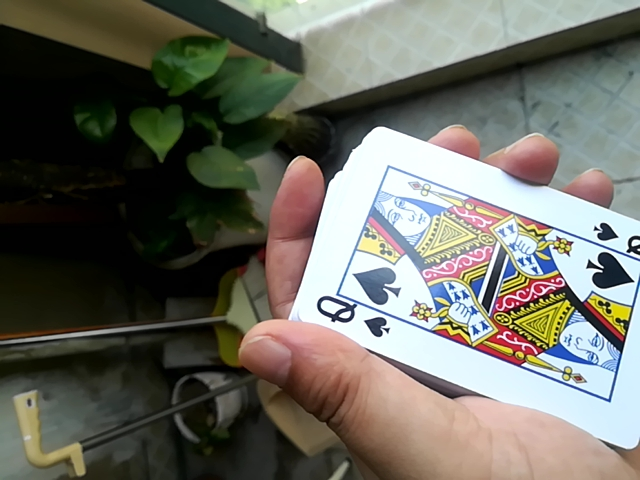ht q: (285, 129, 635, 452)
